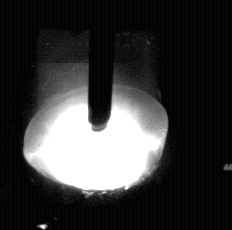arame: (88, 0, 114, 132)
poca: (23, 0, 166, 230)
